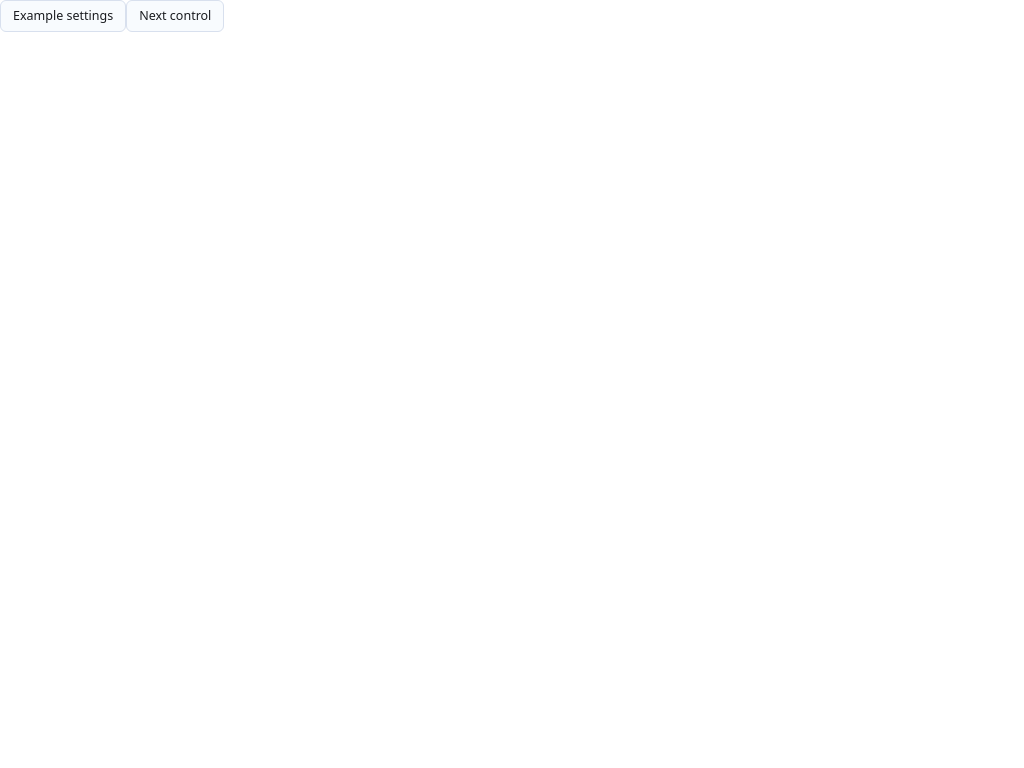
Test case: keeps a title that is not shown for assistive technology
The width and height of the screenshot is (1024, 768).
Click the button "Example settings".
click(63, 16)  # box [0,0,126,32]
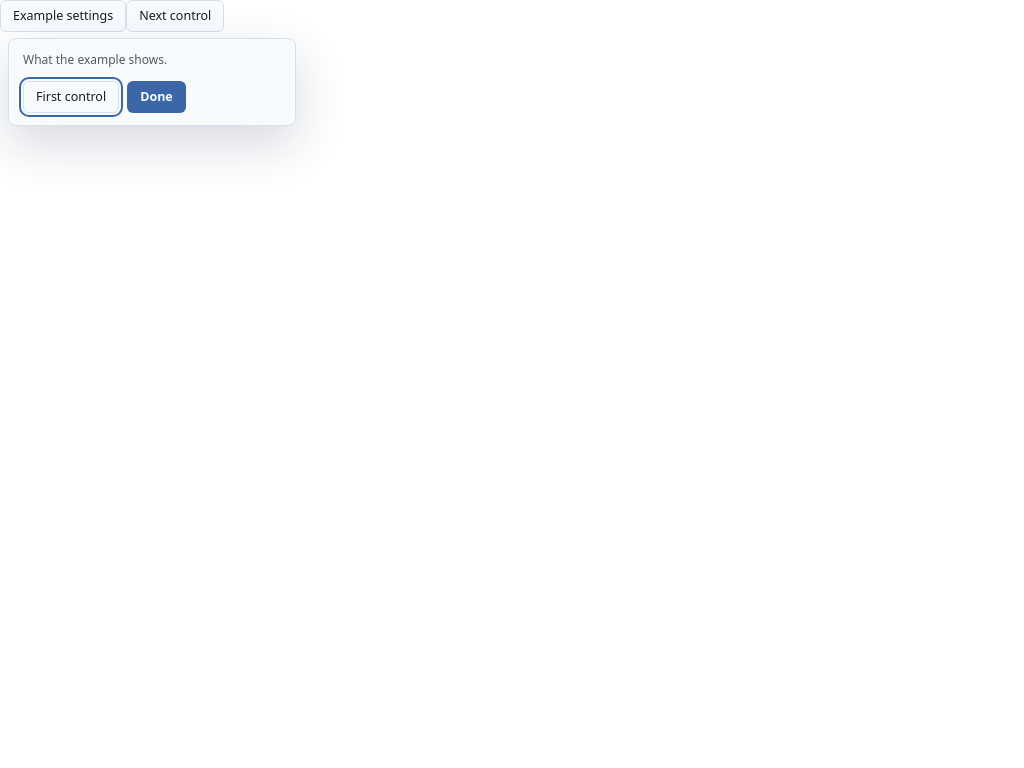
Check: the dialog named "Example settings" is shown, box [8,38,296,126]
